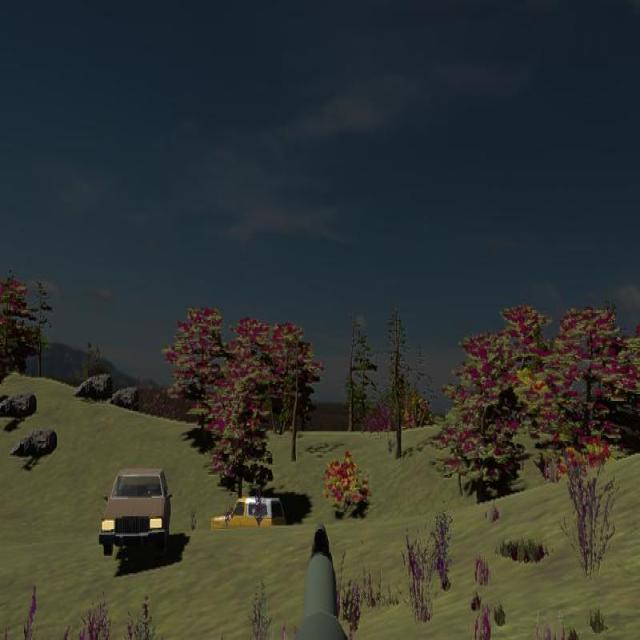car: (99, 466, 172, 559), (210, 496, 286, 541)
